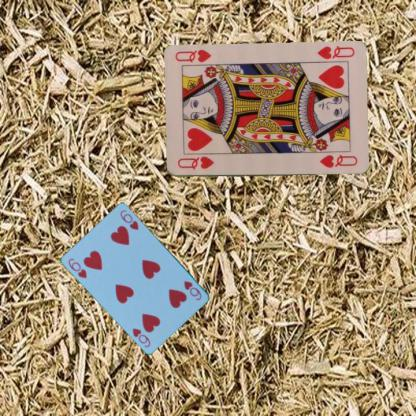6h: (66, 255, 89, 280), (181, 278, 203, 302)
Qh: (174, 154, 215, 172), (315, 44, 356, 61)
